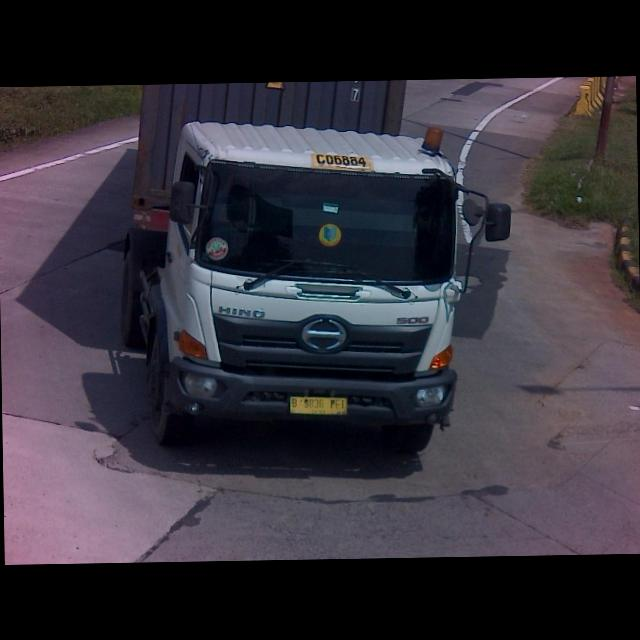plate: (289, 393, 347, 416)
